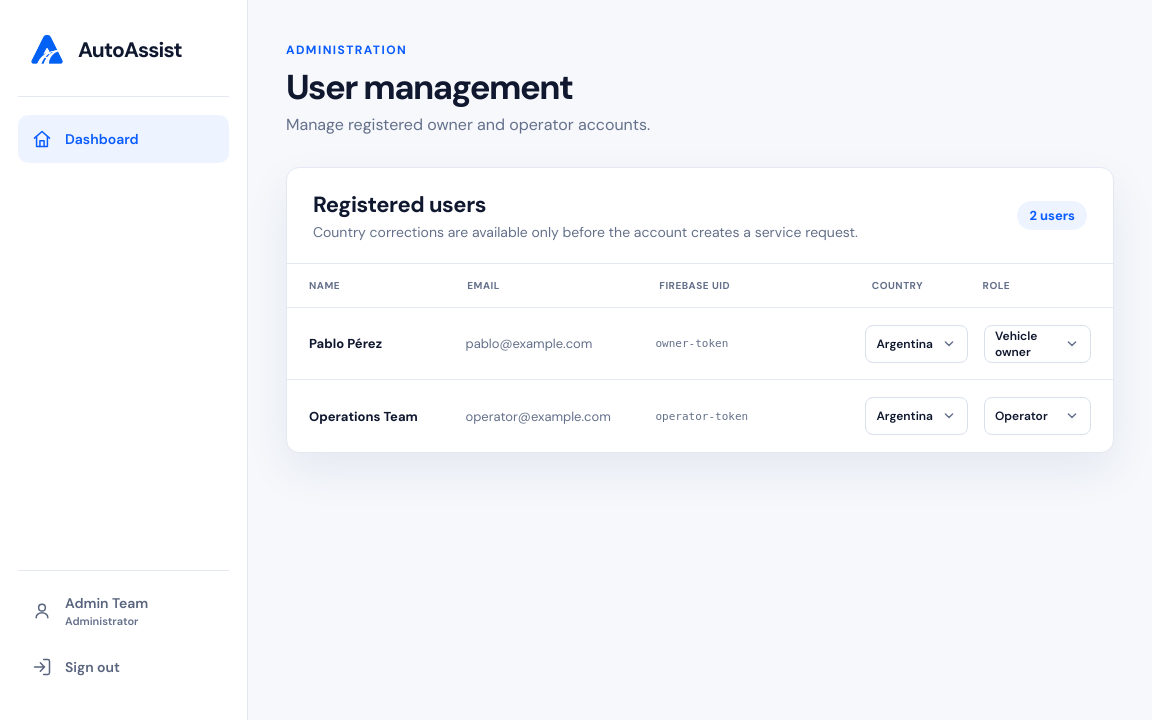
Test: Phase 4 frontend › updates a user role and displays API update errors
Click the dropdown named "role for pablo": click(1037, 344) [984,324,1091,362]
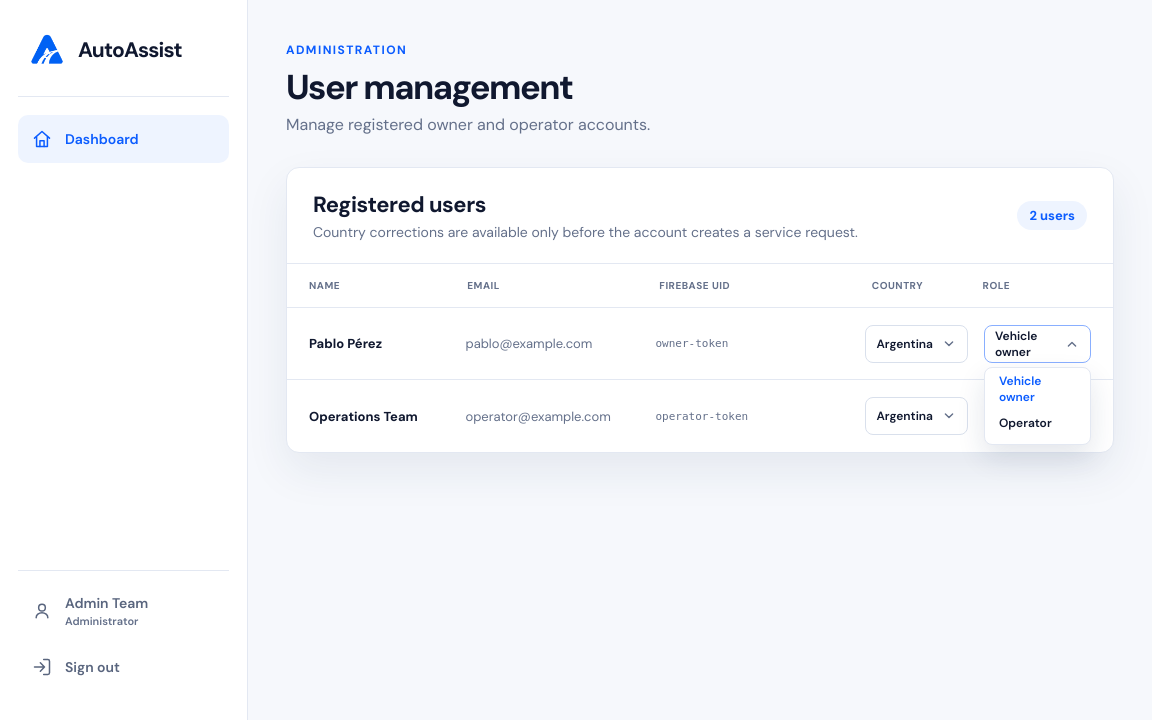
Click the option "Operator": click(1037, 422) [989,406,1086,440]
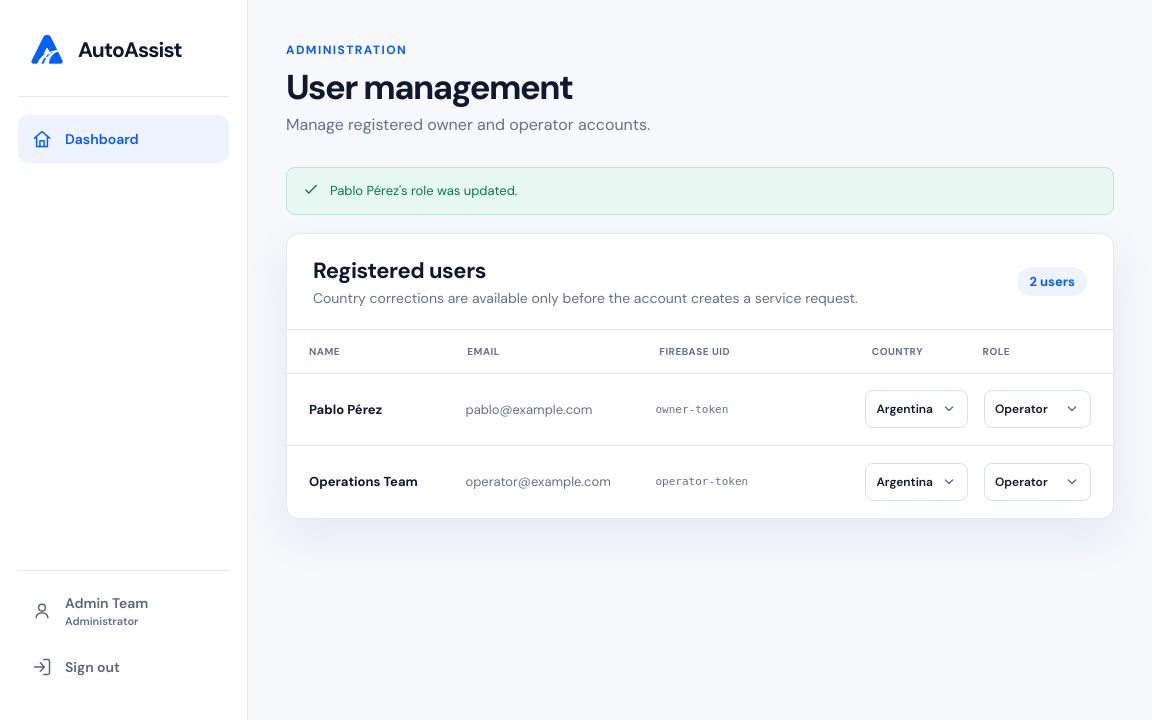
Now the text "Pablo Pérez's role was updated." is shown, box [330,181,517,200]
Click the dropdown named "role for pablo": click(1037, 409) [984,390,1091,428]
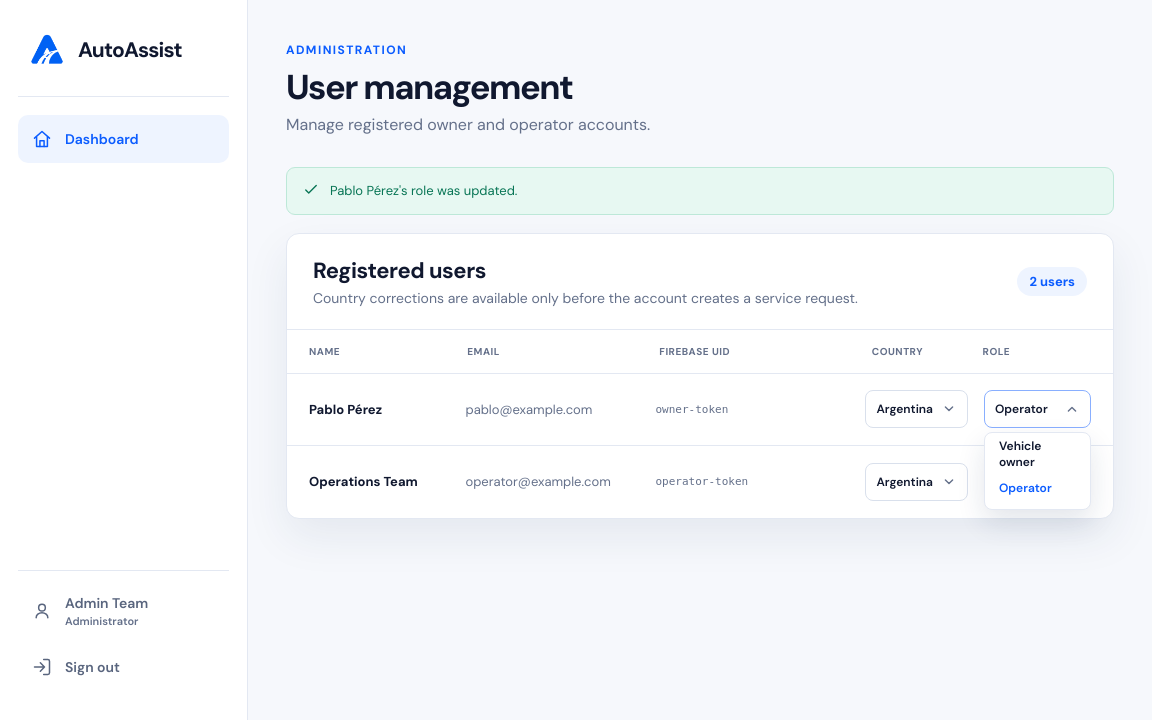
Click the option "Vehicle owner": click(1037, 454) [989,437,1086,471]
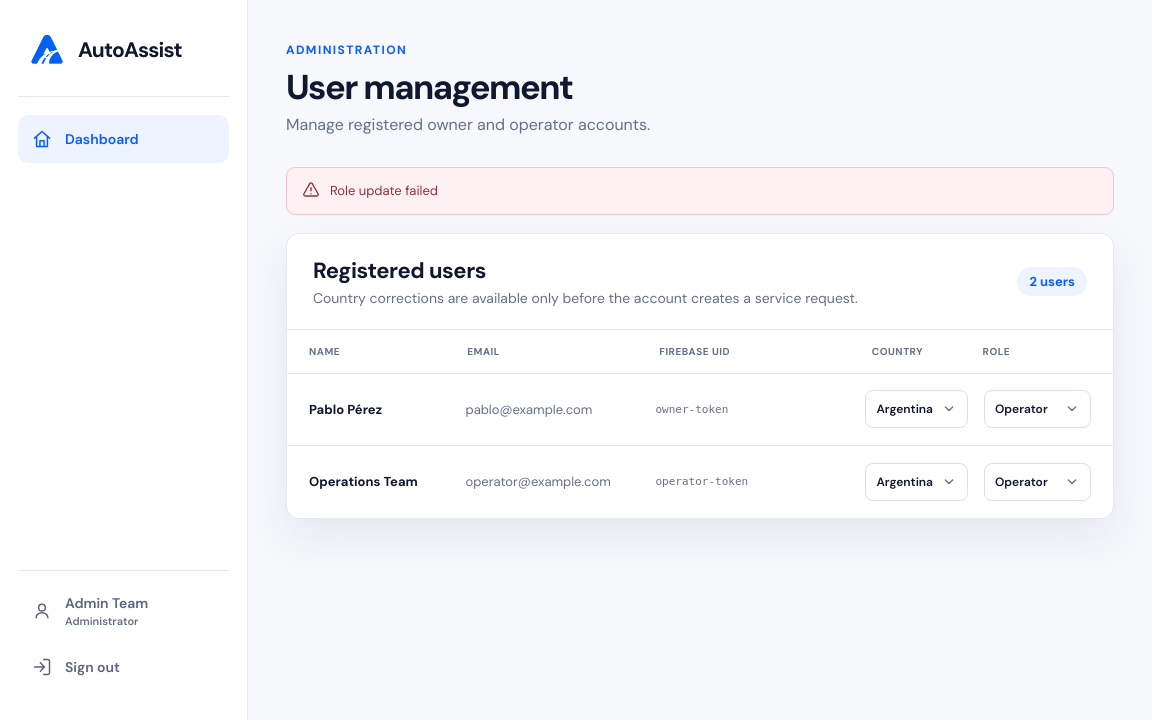
Now the text "Role update failed" is shown, box [330,181,438,200]
